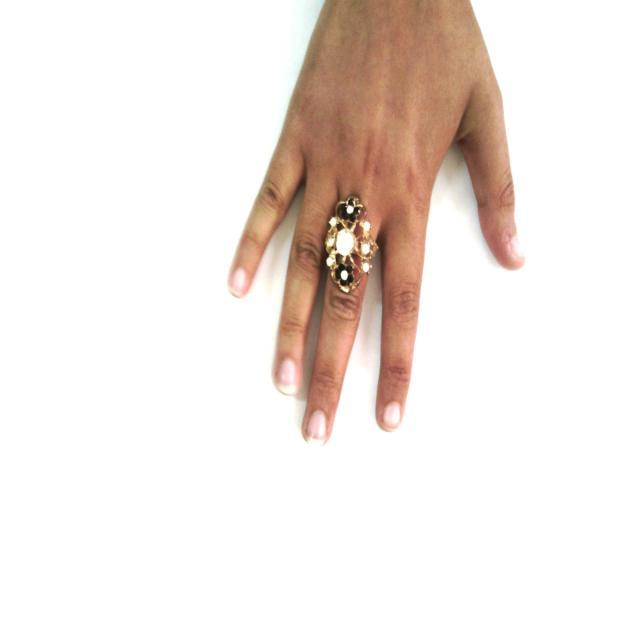Fingernail: (278, 359, 297, 393), (307, 411, 326, 441), (383, 403, 400, 429), (230, 269, 247, 295), (510, 236, 524, 258)
